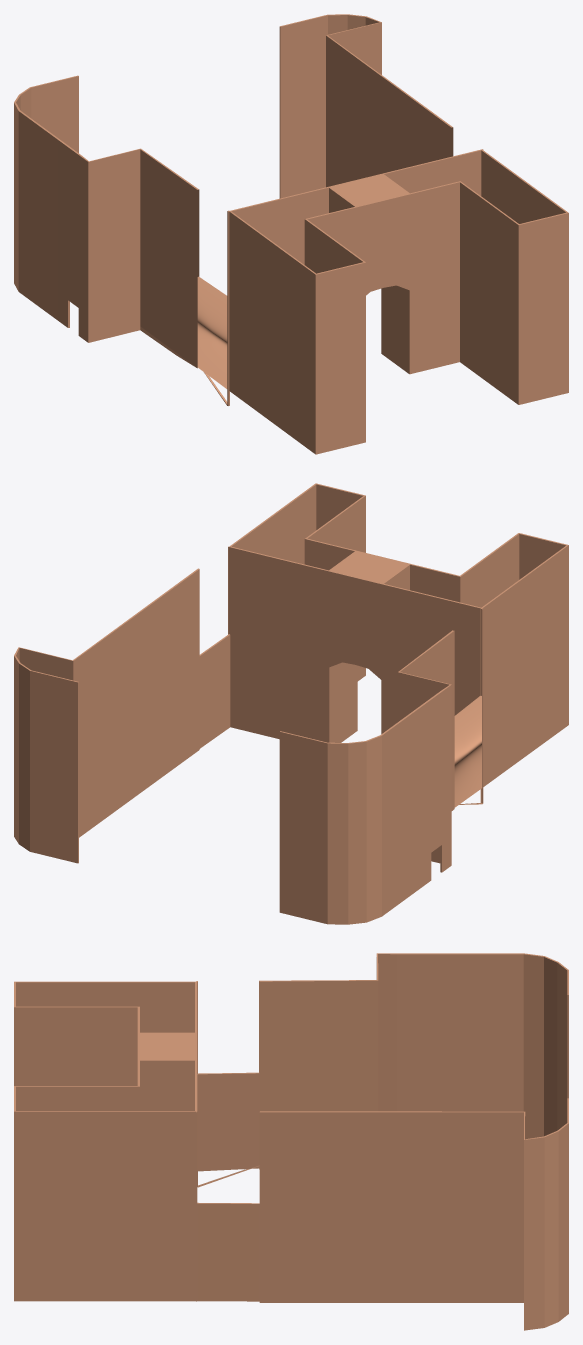
Rendered from WeirdWalls.fbx.
3 renders of one model, top to bottom at view 1: azimuth 30°, elevation 25°; view 2: azimuth 150°, elevation 25°; view 3: azimuth 270°, elevation 25°, orthographic. The views are drawn at different scales.
Visible parts, largest first — view 1: SM_TheatreWalls; view 2: SM_TheatreWalls; view 3: SM_TheatreWalls.
Boxes of the visible parts, x1,y1,x2,y2 form: SM_TheatreWalls: (14, 14, 568, 454); SM_TheatreWalls: (14, 483, 568, 924); SM_TheatreWalls: (14, 953, 568, 1330).
Bounding box in the file's own units: 6999 × 3591 × 8794.
